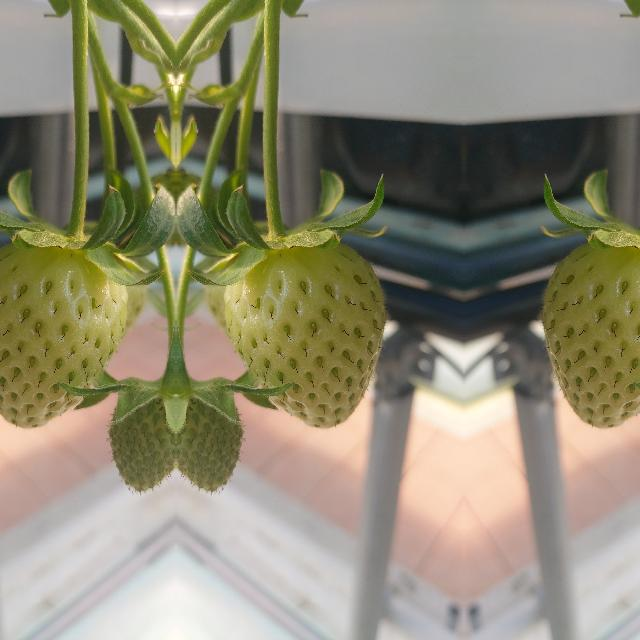Health_25: (222, 244, 384, 428), (0, 244, 127, 428), (542, 244, 640, 428), (175, 385, 241, 501), (109, 385, 175, 501)
